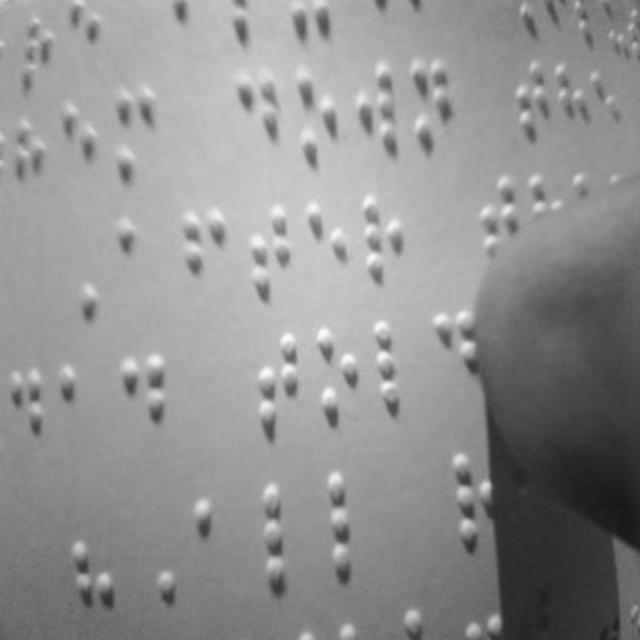braiile: (326, 464, 392, 580), (443, 438, 507, 556), (258, 478, 318, 594), (241, 196, 297, 312), (111, 356, 169, 466), (252, 332, 312, 438), (188, 490, 244, 602), (302, 201, 358, 311), (311, 322, 367, 431), (370, 316, 426, 420), (110, 81, 162, 187), (362, 192, 414, 298), (56, 362, 110, 464), (182, 205, 232, 315), (1, 367, 54, 468), (352, 59, 402, 165), (56, 99, 104, 209), (290, 72, 342, 172), (234, 68, 282, 175), (408, 54, 457, 156), (114, 211, 164, 309), (512, 60, 552, 148)
